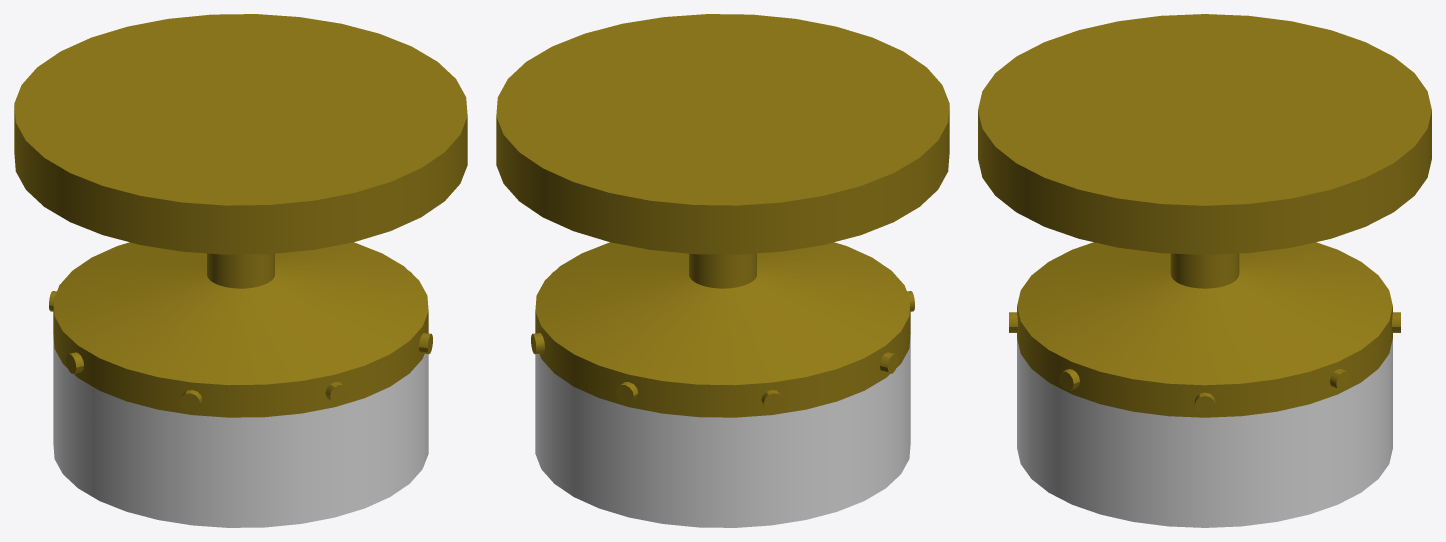
Rendered from ceilingLightCylidrical.fbx.
3 views of the same model, side by side, from view 1: azimuth 30°, elevation 25°; view 2: azimuth 150°, elevation 25°; view 3: azimuth 270°, elevation 25° (orthographic).
Visible parts, largest first — view 1: Ceiling Light Cylindrical; view 2: Ceiling Light Cylindrical; view 3: Ceiling Light Cylindrical.
Boxes of the visible parts, x1,y1,x2,y2 form: Ceiling Light Cylindrical: [14, 14, 467, 527]; Ceiling Light Cylindrical: [496, 14, 949, 527]; Ceiling Light Cylindrical: [978, 14, 1431, 527].
Bounding box in the file's own units: 69.69 × 69.69 × 61.19.
